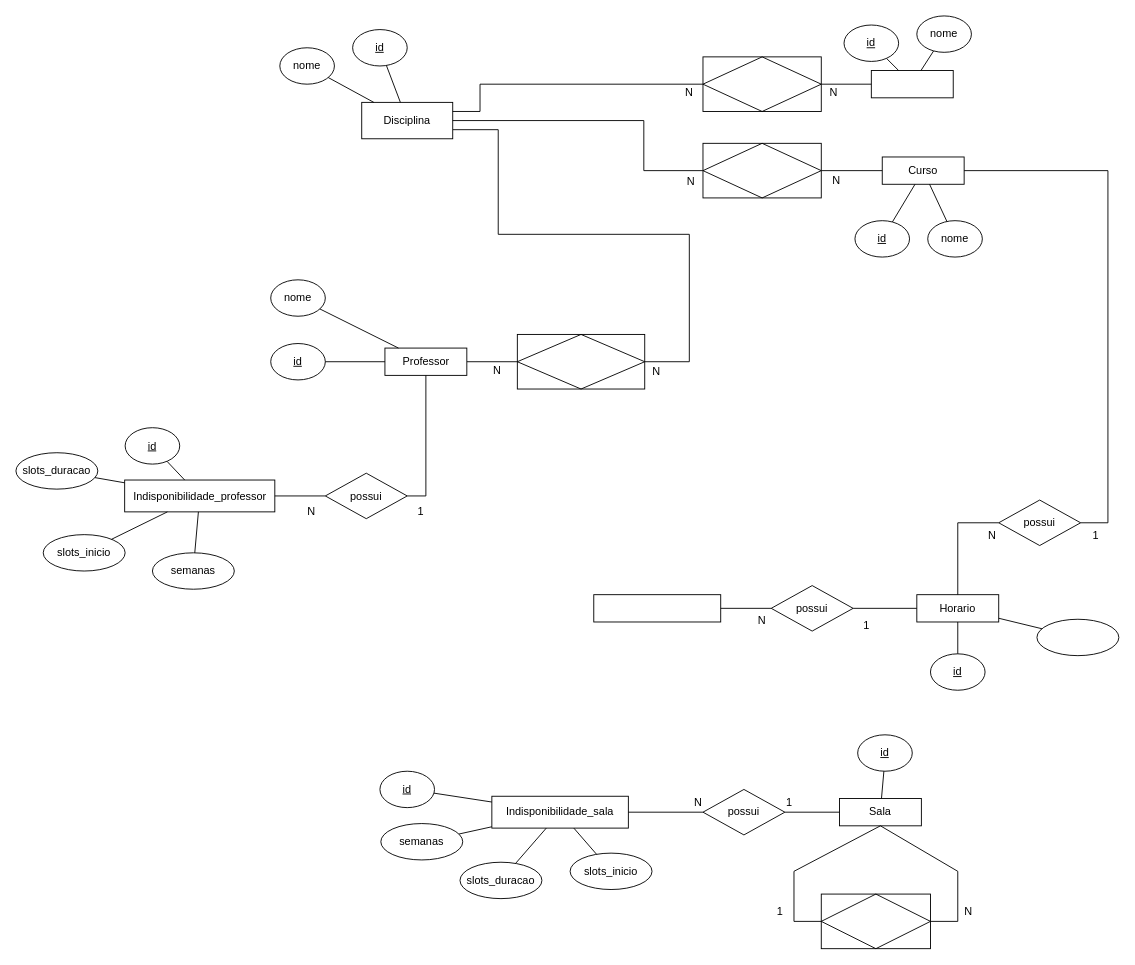
Image size: 1135x965. Some labels were removed from this diagram. Each missing label, with the centre of its shape:
"aula_agendada" belongs at (657,608).
"data_criacao" belongs at (1077,637).
"disciplina_curso" belongs at (761,170).
"distancia_sala" belongs at (875,921).
"professor_disciplina" belongs at (580,361).
"Restricao" belongs at (911,84).
"restricao_disciplina" belongs at (761,83).
